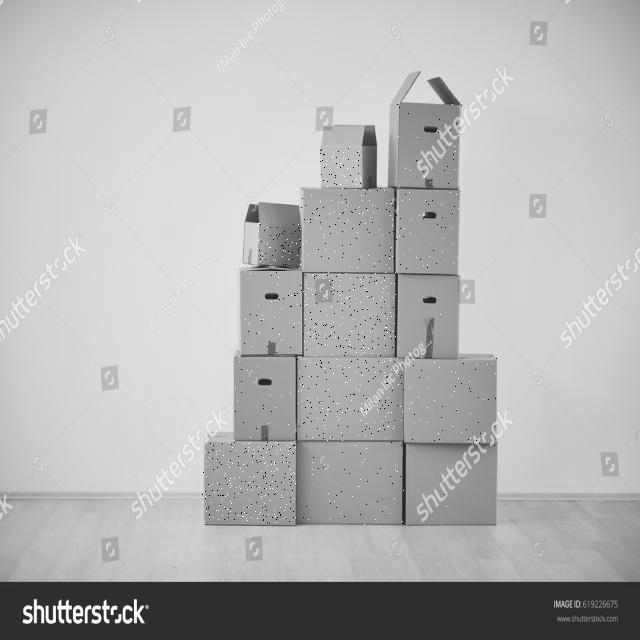BoxFace: (296, 358, 404, 441), (298, 441, 404, 525), (403, 357, 497, 445), (301, 188, 395, 272), (302, 272, 396, 356), (202, 442, 296, 524), (405, 444, 498, 526), (394, 190, 460, 274), (396, 274, 462, 358), (234, 357, 296, 442), (398, 104, 462, 186), (241, 272, 302, 358), (258, 224, 301, 268), (320, 147, 362, 188)
